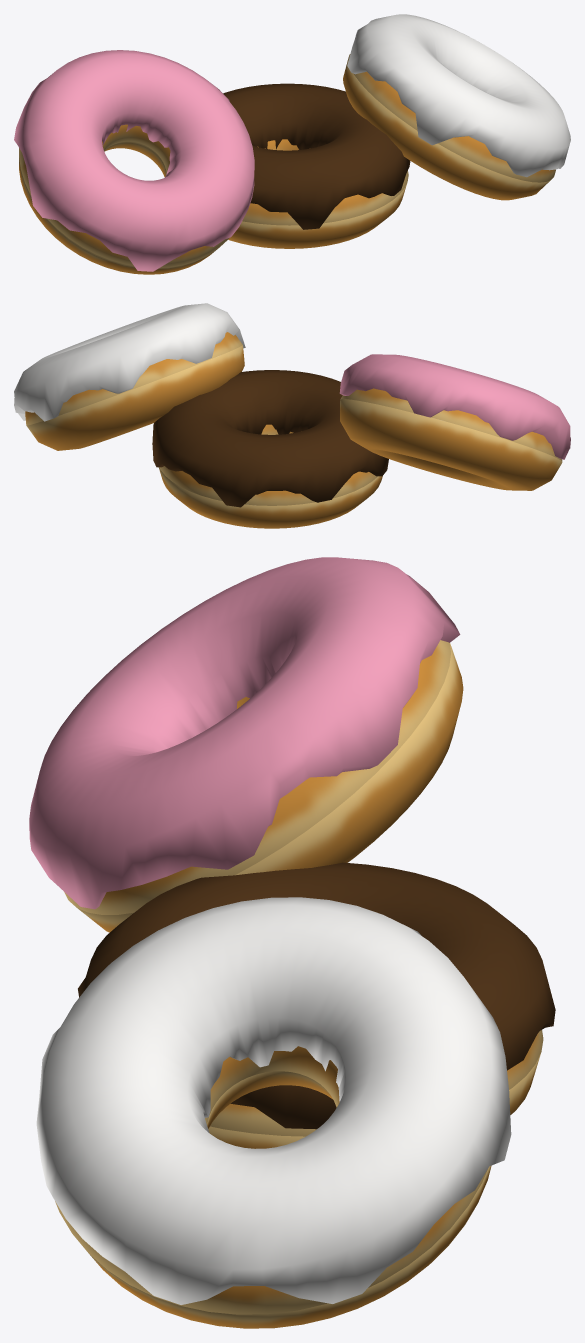
Rendered from donuts.glb.
3 views of the same model, one above another, from view 1: azimuth 30°, elevation 25°; view 2: azimuth 150°, elevation 25°; view 3: azimuth 270°, elevation 25° (orthographic). The views are drawn at different scales.
Visible parts, largest first — view 1: Torus.004, Torus.001, chocodonut; view 2: chocodonut, Torus.004, Torus.001; view 3: Torus.001, Torus.004, chocodonut.
Boxes of the visible parts, x1,y1,x2,y2 form: Torus.004: (14, 50, 254, 274); Torus.001: (343, 14, 570, 200); chocodonut: (223, 83, 410, 248); chocodonut: (152, 370, 388, 528); Torus.004: (339, 354, 570, 490); Torus.001: (14, 303, 245, 450); Torus.001: (36, 897, 511, 1328); Torus.004: (29, 557, 463, 932); chocodonut: (78, 862, 555, 1148).
Bounding box in the file's own units: 120 × 41.28 × 52.73.
Materials: 3 (3 with a texture image).
